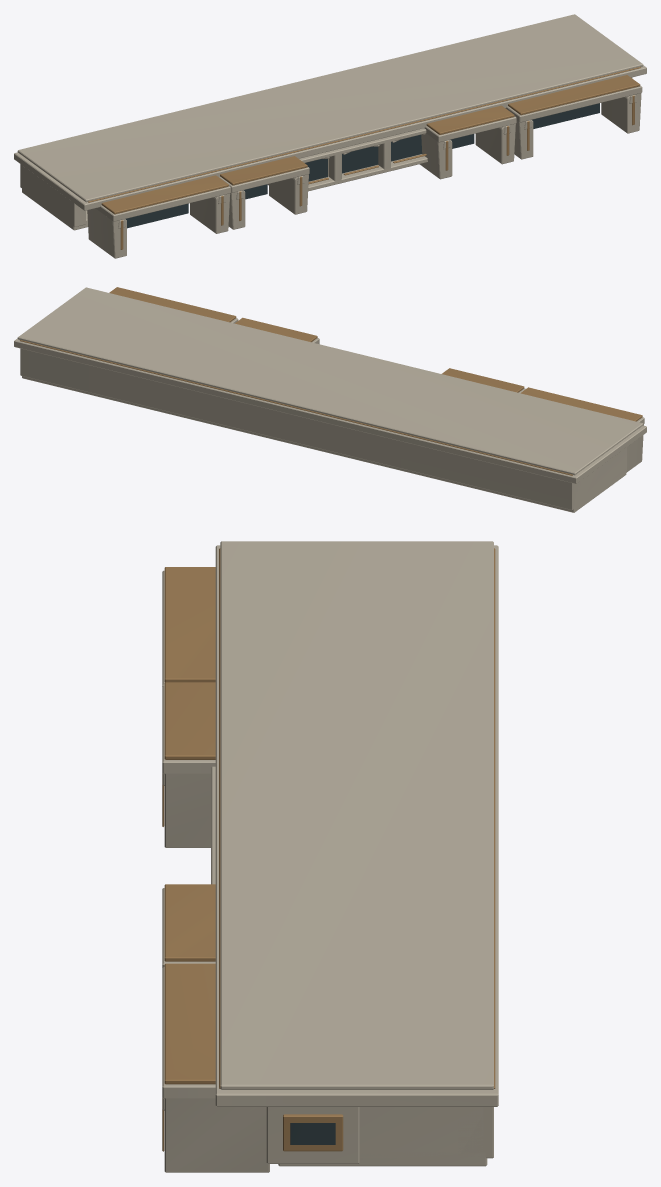
File: veil-spill-lip.glb
The picture shows the model from 3 angles, top to bottom: view 1: azimuth 30°, elevation 25°; view 2: azimuth 150°, elevation 25°; view 3: azimuth 270°, elevation 25°; orthographic projection. The views are drawn at different scales.
Visible parts, largest first — view 1: veil-spill-lip / stone, veil-spill-lip / bronze, veil-spill-lip / recess; view 2: veil-spill-lip / stone, veil-spill-lip / bronze; view 3: veil-spill-lip / stone, veil-spill-lip / bronze, veil-spill-lip / recess.
Boxes of the visible parts, left/top/right/bottom form: veil-spill-lip / stone: left=14, top=14, right=646, bottom=258; veil-spill-lip / bronze: left=88, top=67, right=640, bottom=249; veil-spill-lip / recess: left=125, top=103, right=599, bottom=228; veil-spill-lip / stone: left=14, top=287, right=646, bottom=512; veil-spill-lip / bronze: left=20, top=287, right=642, bottom=475; veil-spill-lip / stone: left=162, top=541, right=498, bottom=1172; veil-spill-lip / bronze: left=162, top=548, right=495, bottom=1151; veil-spill-lip / recess: left=290, top=1123, right=335, bottom=1144.
Size of the model in its own units: 112 by 10 by 29.
